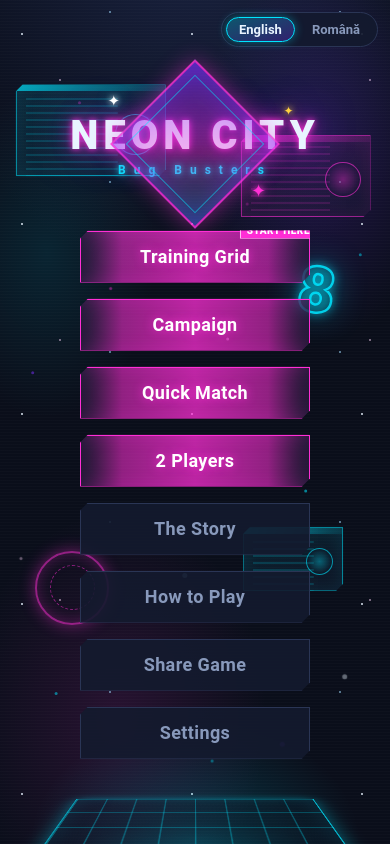
it: Campaign › shows the crew roster with the 5 starters unlocked
Click the button "Campaign".
click(195, 324)  # box top-left (80, 298), bottom-right (310, 350)
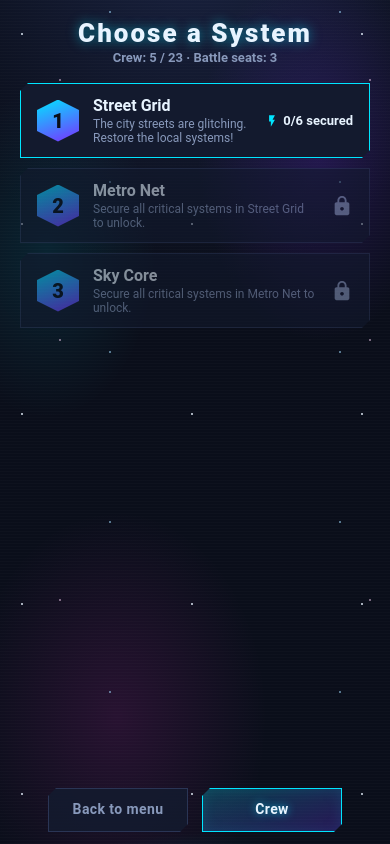
Expected: the heading "Choose a System" is shown, top-left (78, 18), bottom-right (312, 48)
Click the button "Crew".
click(272, 810)  # box top-left (202, 788), bottom-right (342, 832)
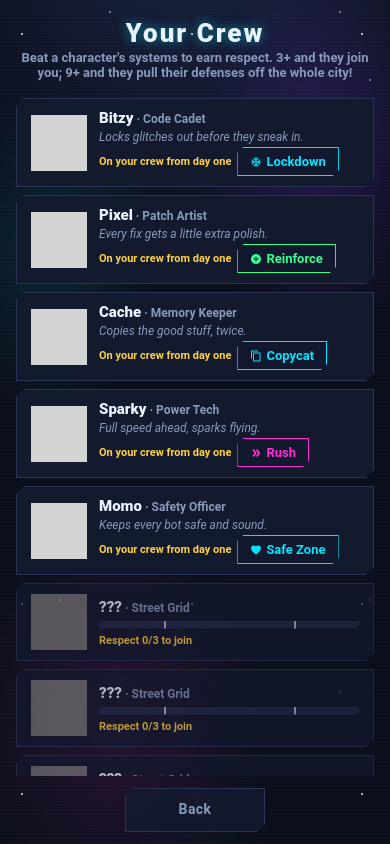
Expected: the heading "Your Crew" is shown, top-left (126, 18), bottom-right (264, 48)
Expected: the text "Bitzy" is shown, top-left (99, 109), bottom-right (134, 127)
Expected: the text "Pixel" is shown, top-left (99, 206), bottom-right (133, 224)
